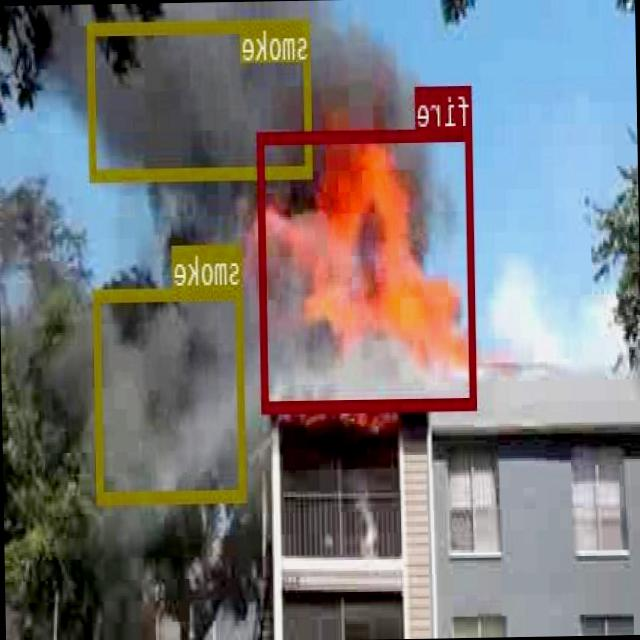fire: (258, 126, 477, 410)
smoke: (88, 17, 314, 179), (95, 284, 248, 502)
